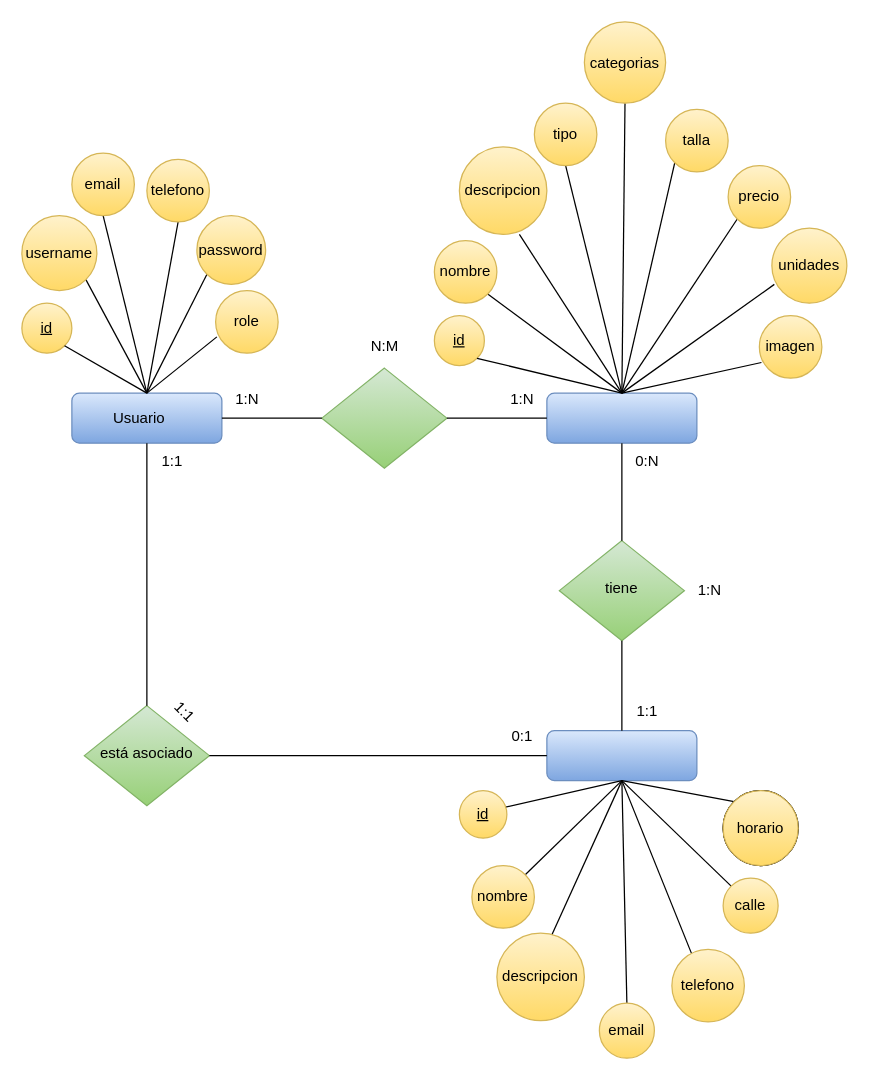
The diagram is 869 pixels wide and 1080 high, and some of its shapes have lost their labels. Each missing label, with the centre of its shape:
Negocio: the point at 621,755
Producto: the point at 621,417
reserva: the point at 384,417
